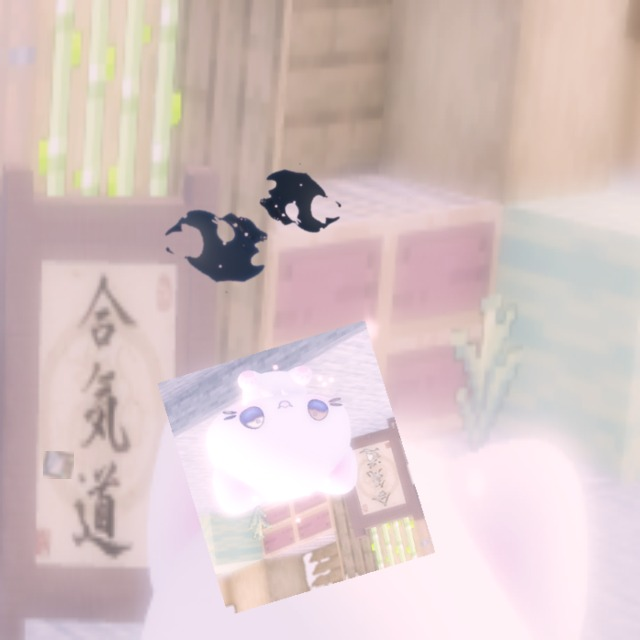urso_branco: (157, 320, 436, 616), (43, 451, 74, 479)
urso_preto: (138, 174, 299, 317), (235, 140, 364, 263)
